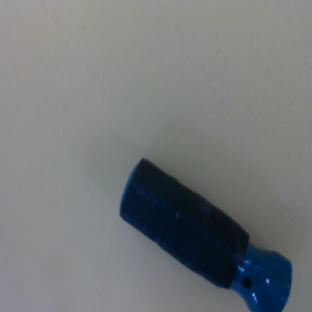part_2_bad: (105, 156, 309, 312)
